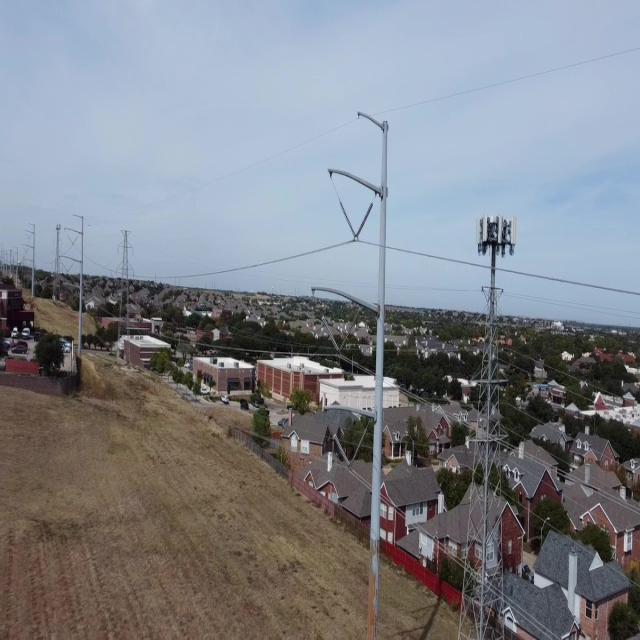杆塔: (456, 265, 515, 640), (114, 223, 143, 359)
正常绝缘子: (350, 200, 375, 246), (335, 313, 360, 357), (346, 427, 368, 474), (319, 313, 343, 355), (338, 199, 360, 243), (332, 431, 354, 473)
